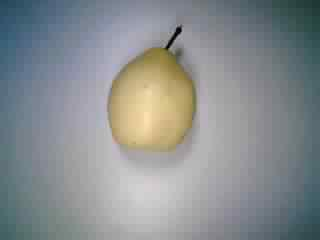pear: (100, 15, 205, 165)
